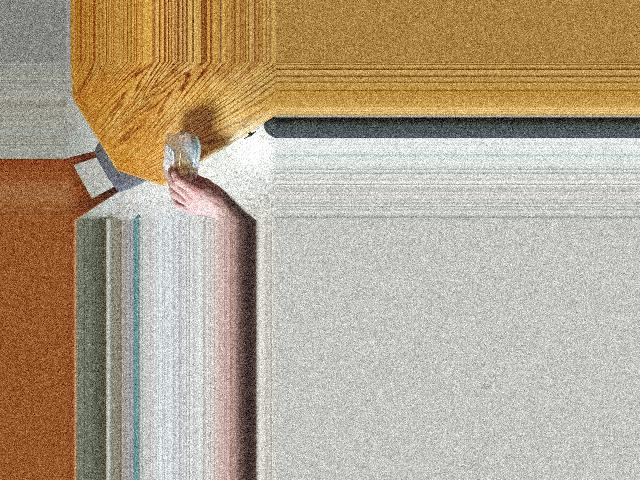cheese: (150, 132, 224, 186)
